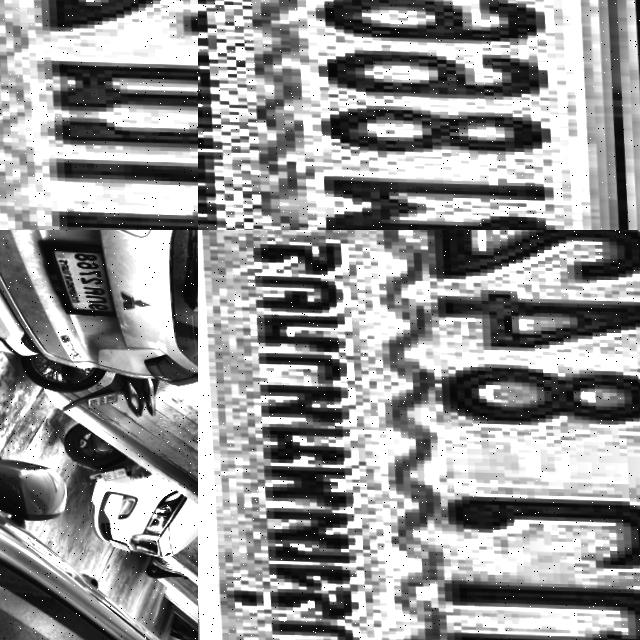license-plate: (198, 230, 640, 640), (198, 0, 640, 230), (0, 0, 198, 230), (38, 236, 117, 315), (81, 388, 114, 407), (94, 464, 123, 482)
